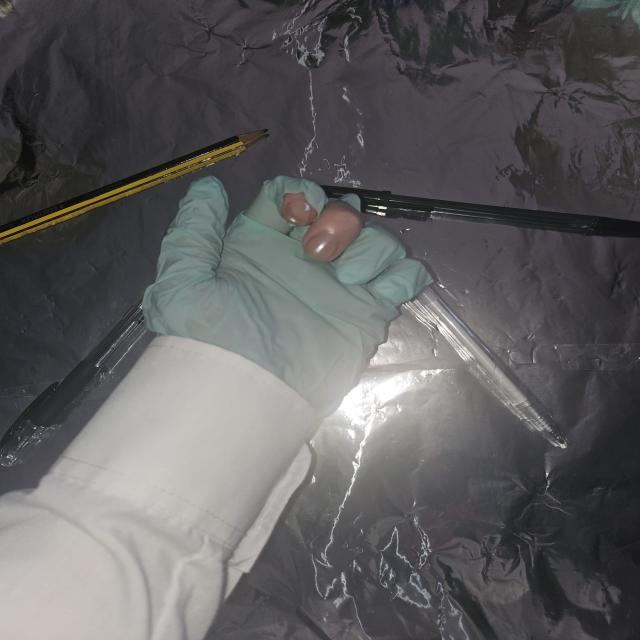gloves_damaged: (140, 170, 437, 426)
